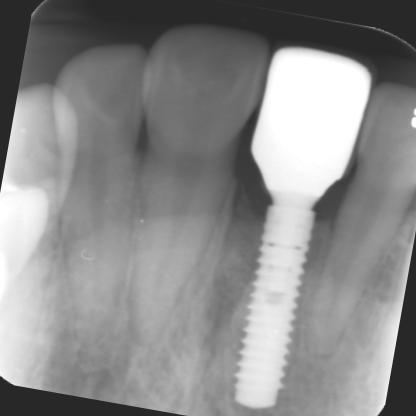ITI: (215, 182, 345, 415)
